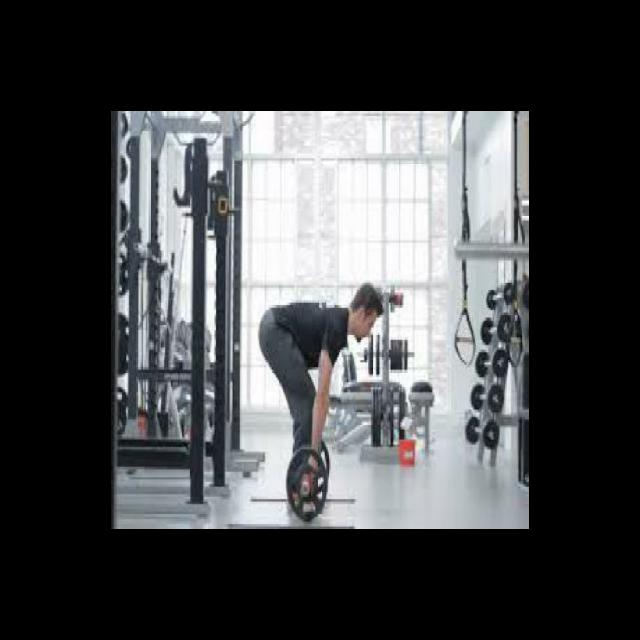barbell: (280, 442, 334, 525)
